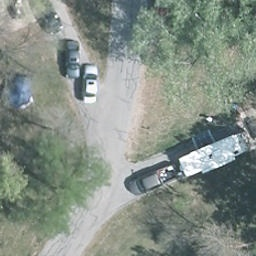camping car: (178, 135, 247, 177)
car: (60, 42, 81, 79), (80, 65, 97, 105)
pickup: (122, 165, 181, 194)
